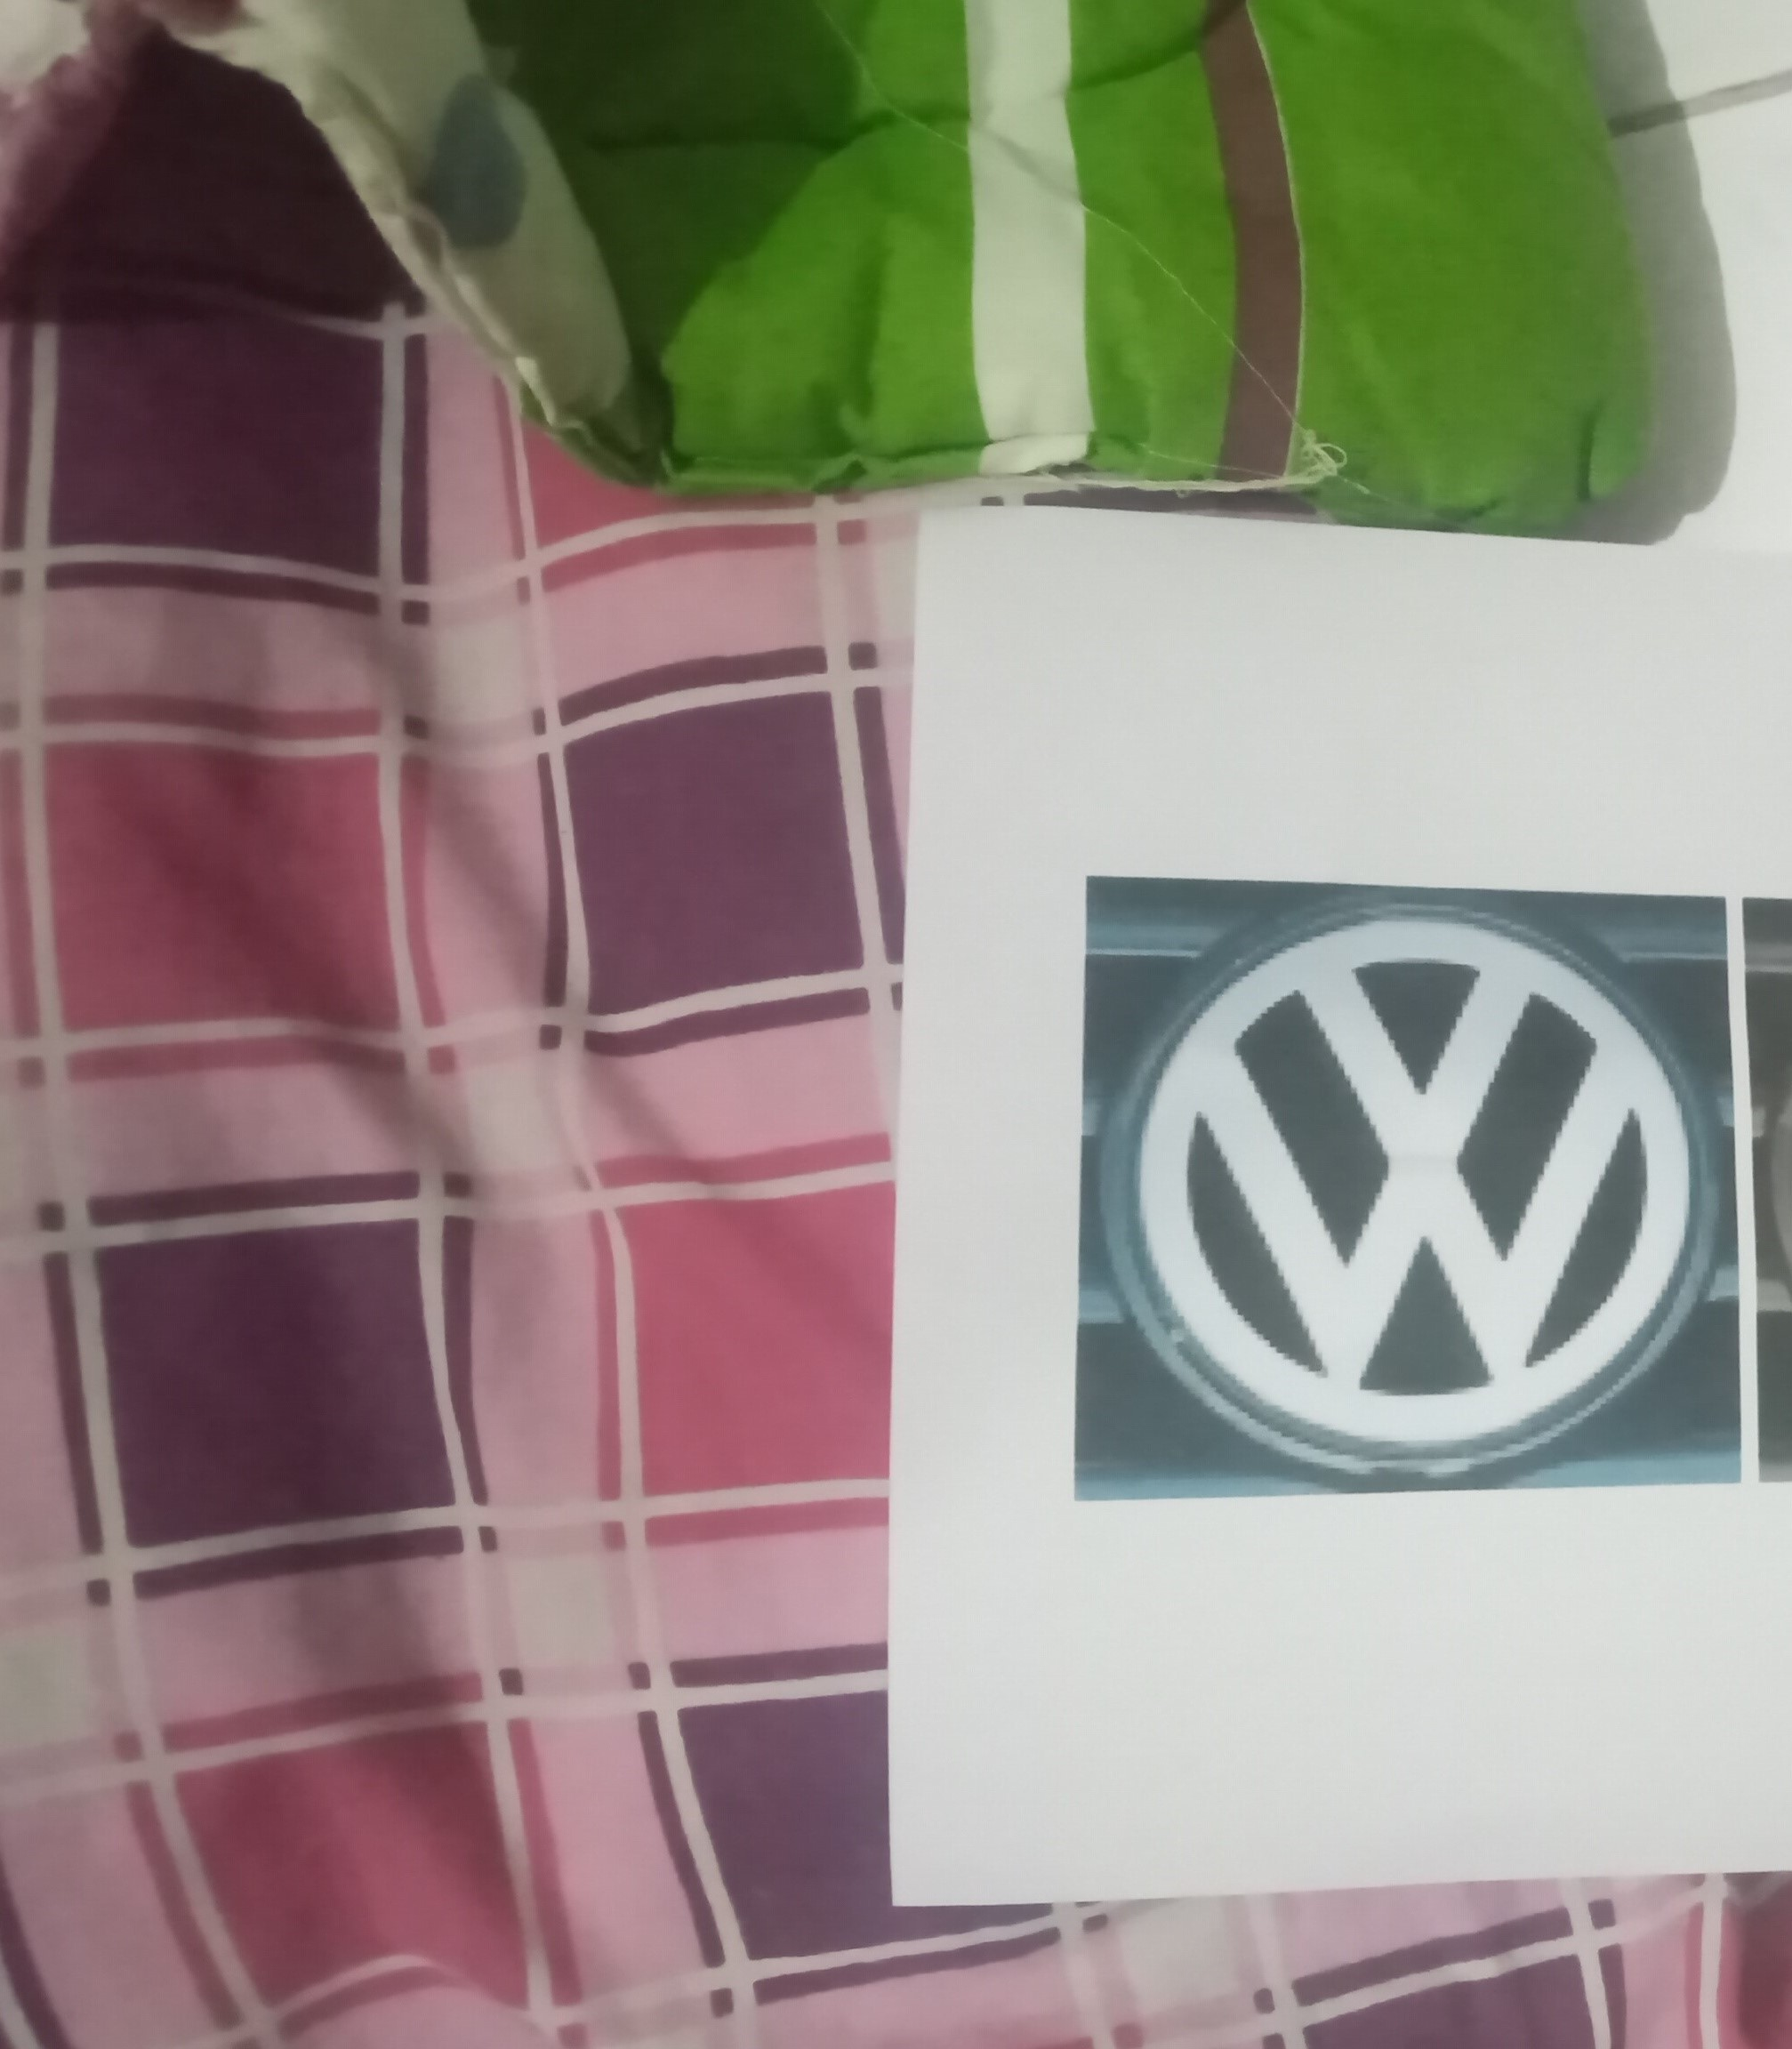Volkswagen: (1084, 890, 1722, 1502)
